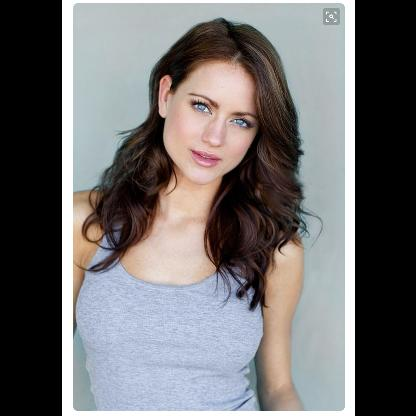Female: (158, 60, 260, 184)
